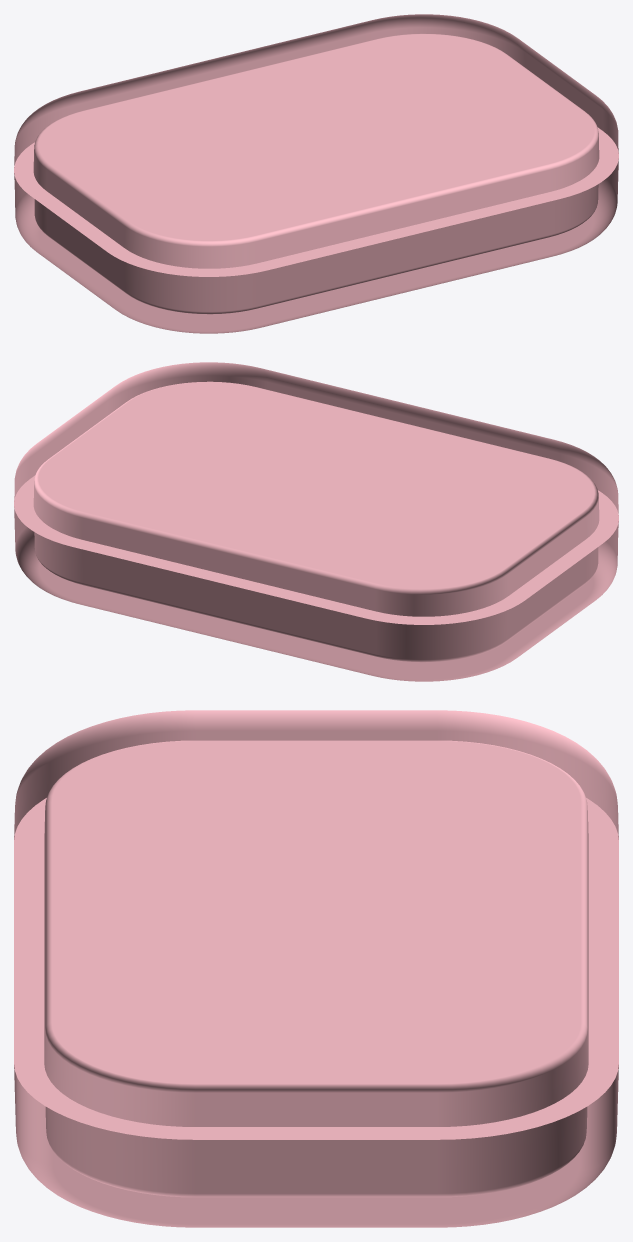
File: v3_enclosure.glb
3 views of the same model, one above another, from view 1: azimuth 30°, elevation 25°; view 2: azimuth 150°, elevation 25°; view 3: azimuth 270°, elevation 25° (orthographic). The views are drawn at different scales.
Visible parts, largest first — view 1: top_shell, bottom_shell; view 2: top_shell, bottom_shell; view 3: top_shell, bottom_shell.
Boxes of the visible parts, x1,y1,x2,y2 form: top_shell: [14, 14, 618, 276]; bottom_shell: [14, 159, 618, 333]; top_shell: [14, 362, 618, 624]; bottom_shell: [14, 507, 618, 681]; top_shell: [14, 710, 618, 1139]; bottom_shell: [14, 1065, 618, 1227].
Size of the model in its own units: 0.044 by 0.01 by 0.03.
